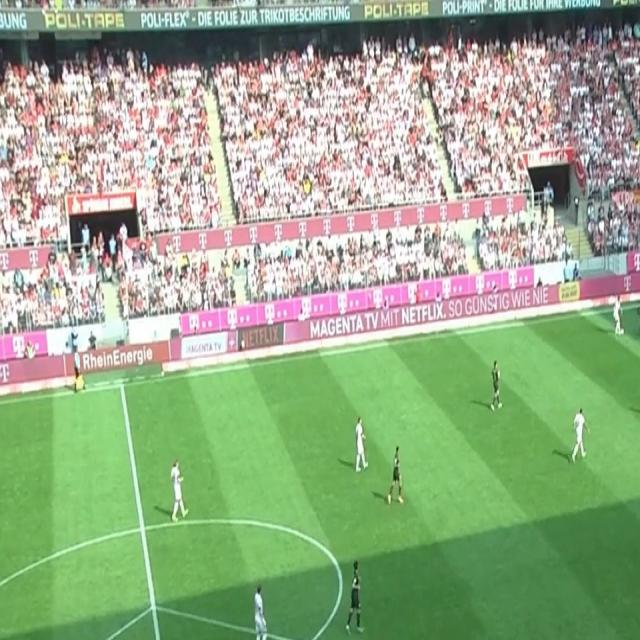ball: (619, 327, 625, 336)
